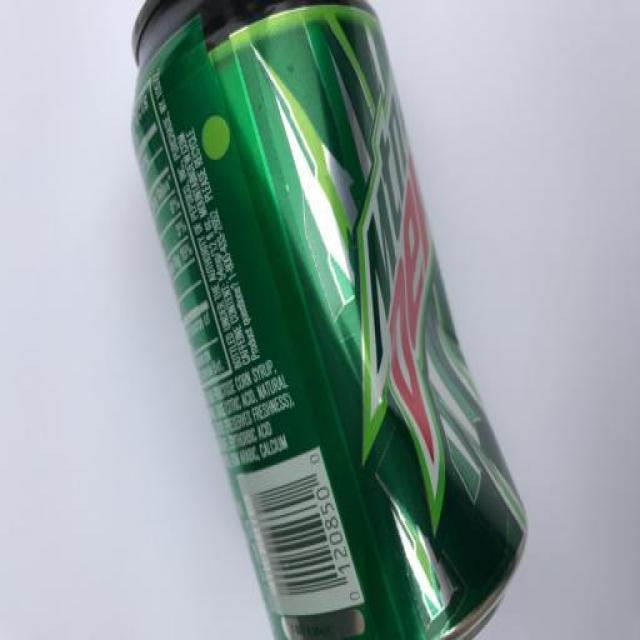metel: (102, 1, 576, 640)
